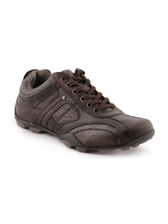shoes: (13, 66, 159, 155)
